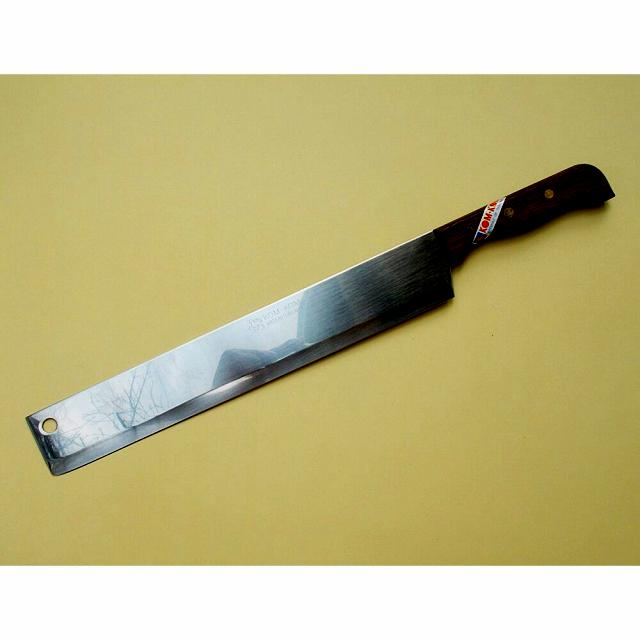eto: (23, 157, 620, 482)
